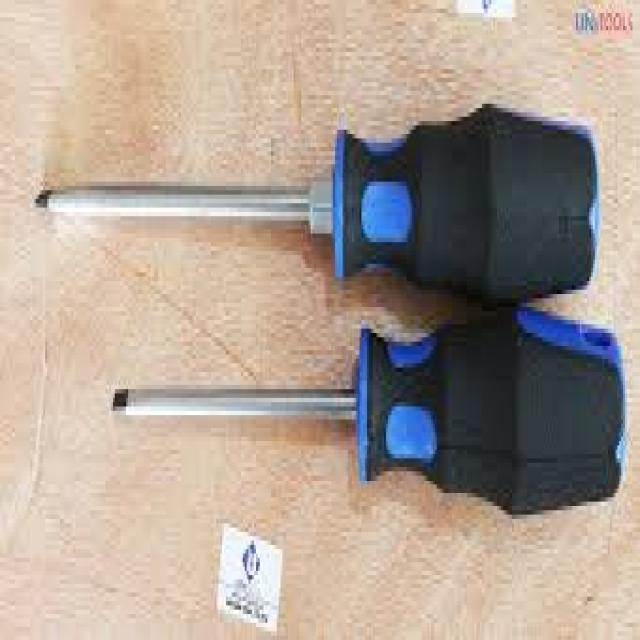screwdriver: (32, 99, 600, 307), (108, 307, 630, 519)
